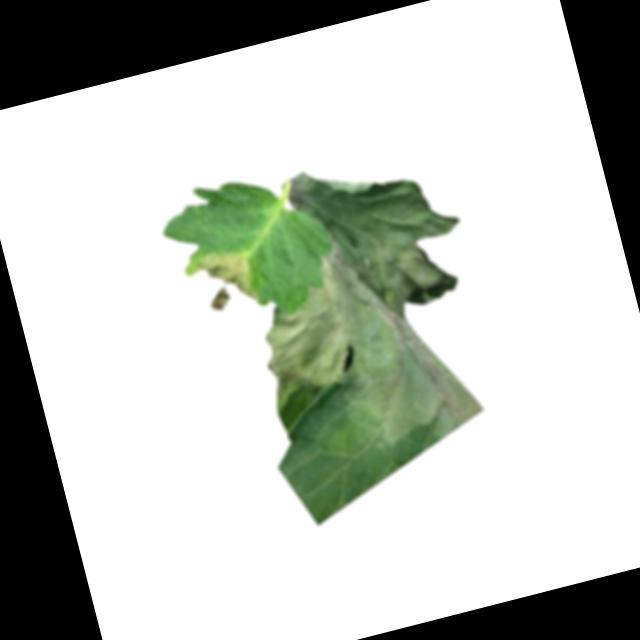Late_blight: (221, 140, 510, 471), (190, 243, 265, 316)
